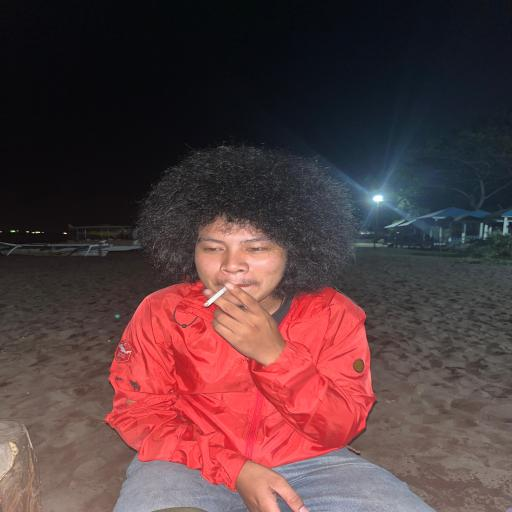merokok: (192, 234, 282, 325)
